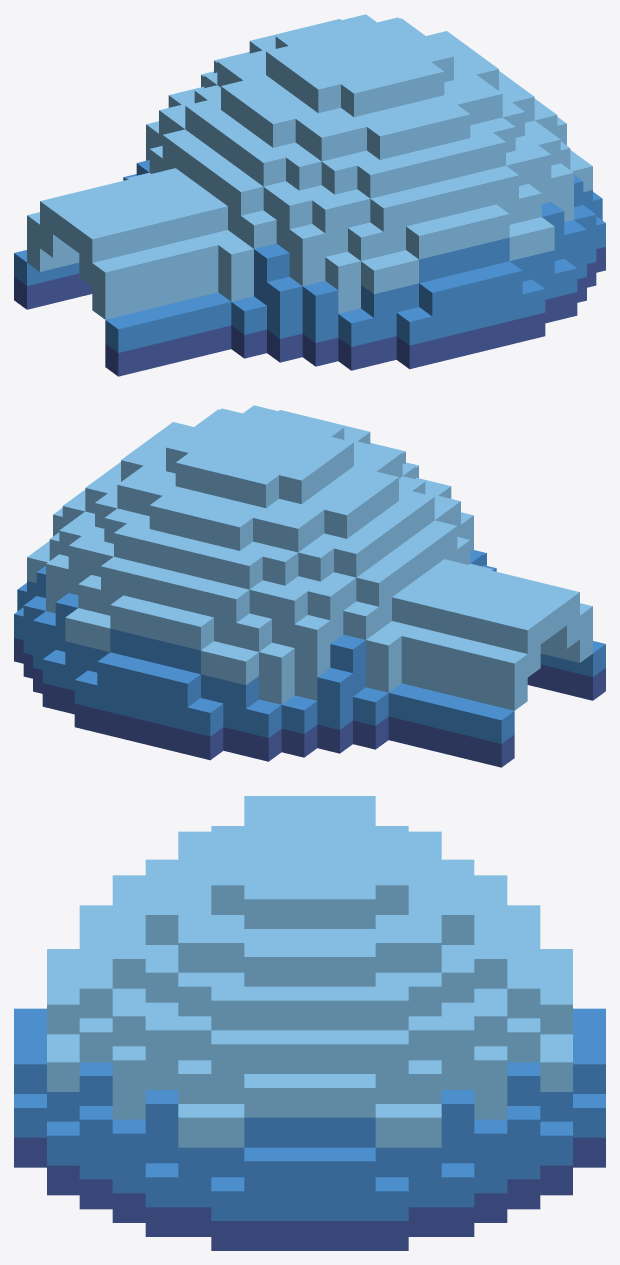
Rendered from Smol-Igloo-1.obj.
3 renders of one model, top to bottom at view 1: azimuth 30°, elevation 25°; view 2: azimuth 150°, elevation 25°; view 3: azimuth 270°, elevation 25°, orthographic. The views are drawn at different scales.
Size of the model in its own units: 2.2 by 0.9 by 1.8.
1 material, 1 textured.
